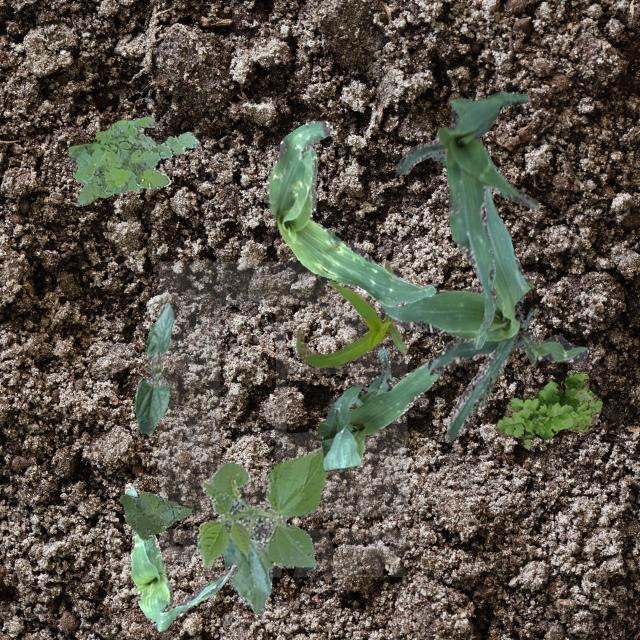crop: (343, 152, 588, 438), (394, 90, 538, 348), (266, 120, 434, 306), (196, 446, 326, 614), (124, 482, 236, 630), (317, 346, 438, 470), (296, 260, 406, 366), (134, 302, 172, 432)
weed: (68, 116, 198, 204), (494, 372, 602, 448), (118, 491, 190, 538)
